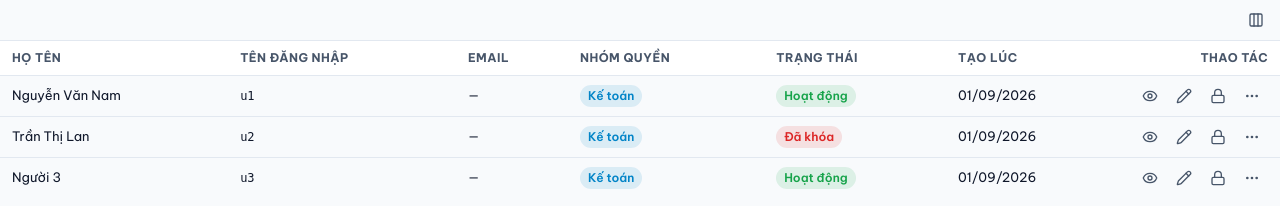
Scenario: UsersTable › có user.manage: Xem → Sửa → Khóa/Mở khóa theo trạng thái; 'Cấp lại mật khẩu' nằm trong menu ⋯
Expected: the button named "Khóa" in the row of "Nguyễn Văn Nam" is shown, x1=1202 y1=80 x2=1234 y2=112
Expected: the button named "Mở khóa" is shown, x1=1202 y1=121 x2=1234 y2=153
Click the button named "Thêm thao tác" in the row of "Nguyễn Văn Nam" at x=1252, y=96, box x1=1236 y1=80 x2=1268 y2=112
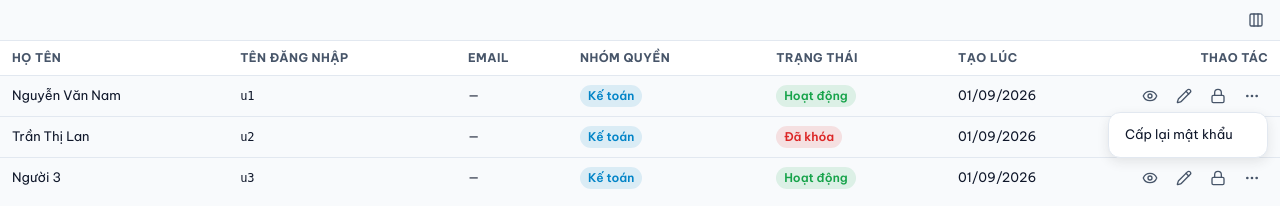
Now the menu item "Cấp lại mật khẩu" is shown, box x1=1125 y1=126 x2=1233 y2=142
